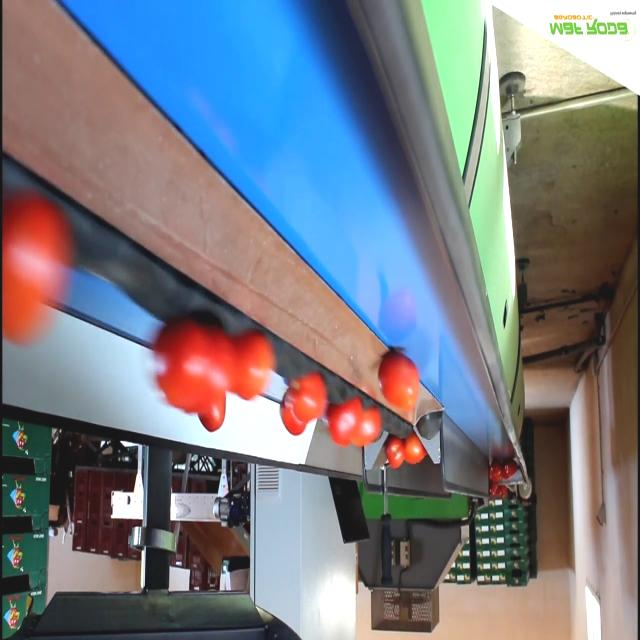Tomato: (0, 202, 75, 345), (157, 327, 233, 415), (226, 340, 272, 398), (376, 351, 422, 406), (289, 371, 329, 420), (328, 396, 364, 446), (354, 409, 380, 444), (199, 402, 227, 432), (402, 440, 426, 462), (386, 438, 404, 467), (276, 416, 308, 432), (502, 455, 514, 475), (491, 464, 502, 481), (489, 484, 497, 498), (499, 486, 507, 498)
